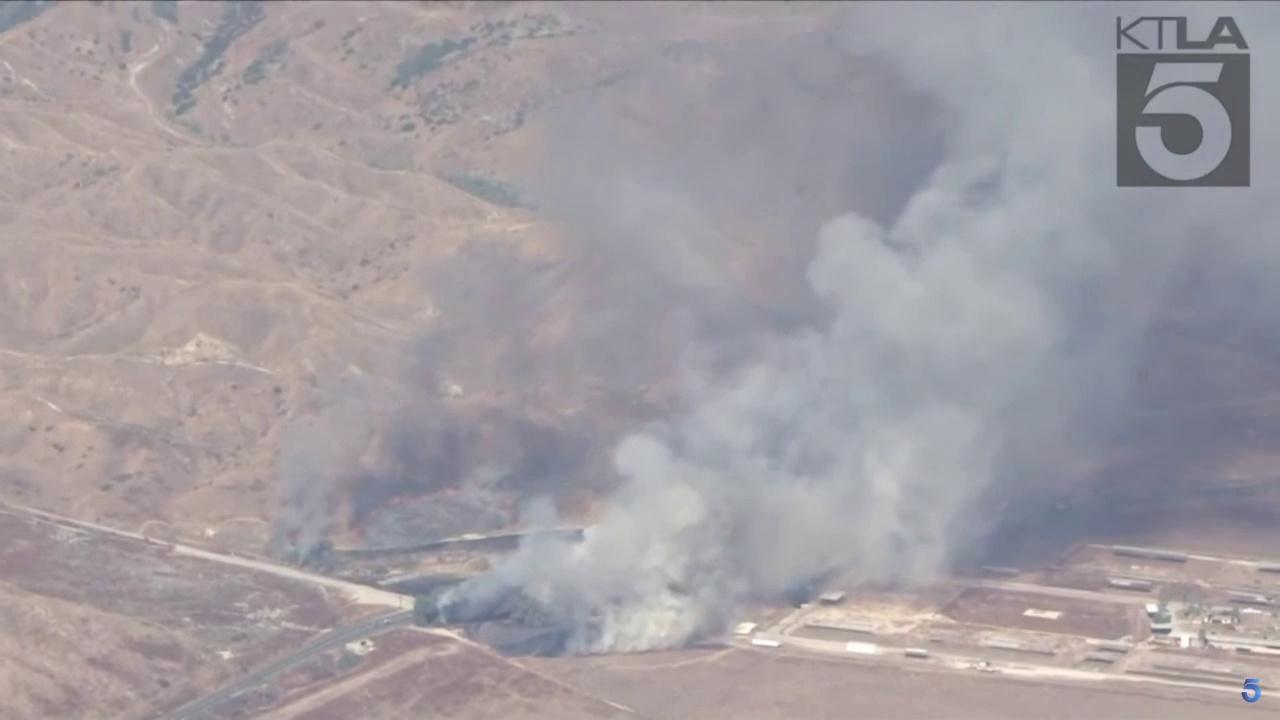fire: (391, 486, 460, 508), (349, 526, 364, 544)
smoke: (272, 0, 1280, 657)
